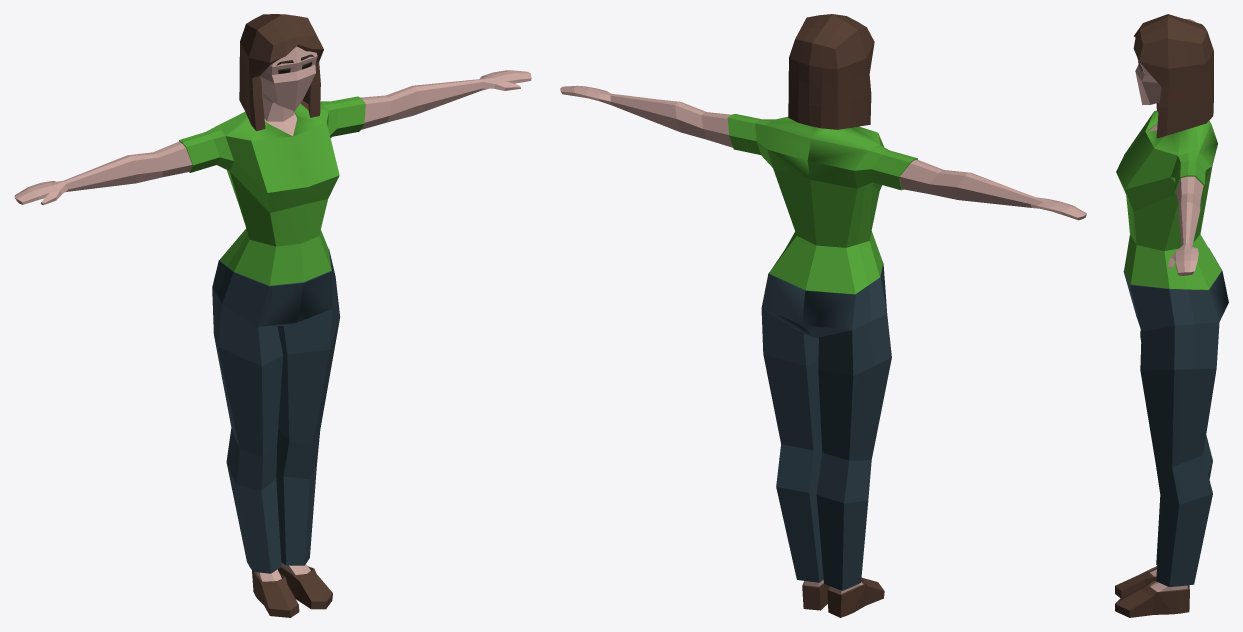
The model's file is pracowniczka.fbx.
3 renders of one model, left to right at view 1: azimuth 30°, elevation 25°; view 2: azimuth 150°, elevation 25°; view 3: azimuth 270°, elevation 25°, orthographic.
Parts seen in each view (by area): view 1: woman armature.002; view 2: woman armature.002; view 3: woman armature.002.
Part boxes in pixels (bbox=[...]): woman armature.002: bbox=[14, 14, 531, 617]; woman armature.002: bbox=[560, 14, 1086, 617]; woman armature.002: bbox=[1115, 14, 1228, 617].
Size of the model in its own units: 962 by 1041 by 183.
